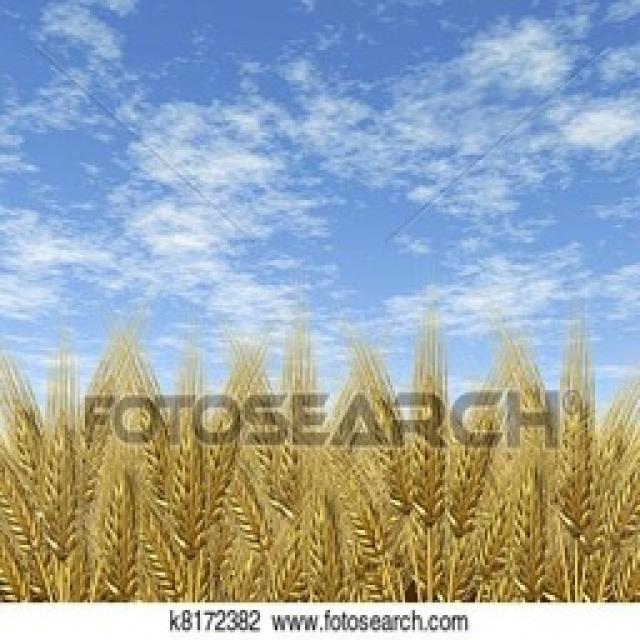Healthy Wheat: (0, 290, 638, 600)
